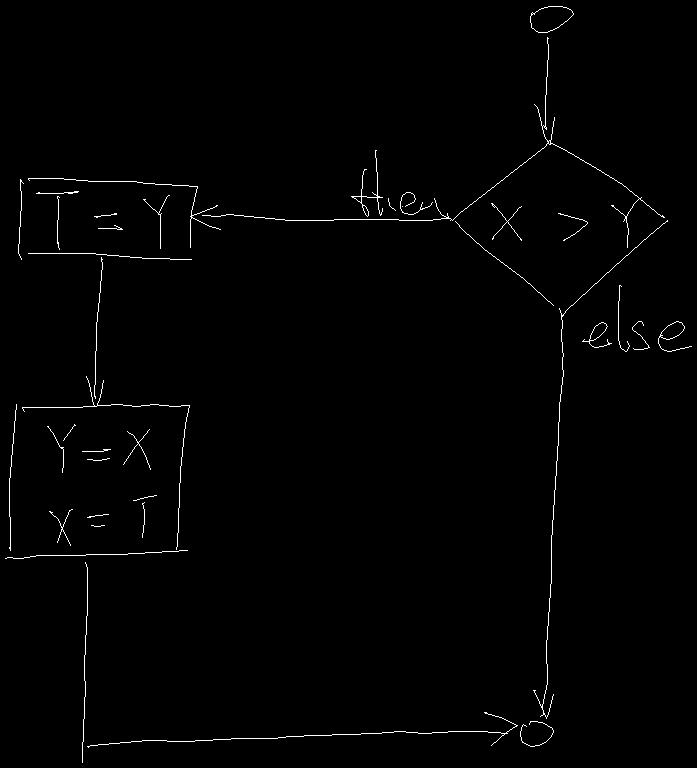arrow: (82, 562, 517, 762), (533, 314, 563, 718), (190, 205, 451, 229), (86, 257, 103, 406), (534, 37, 554, 144)
connection: (530, 6, 573, 32), (520, 721, 553, 746)
decision: (452, 140, 667, 316)
process: (5, 404, 189, 558), (18, 178, 197, 259)
text: (47, 424, 156, 545), (36, 191, 169, 249), (491, 197, 641, 247), (582, 285, 691, 351), (351, 150, 448, 217)
